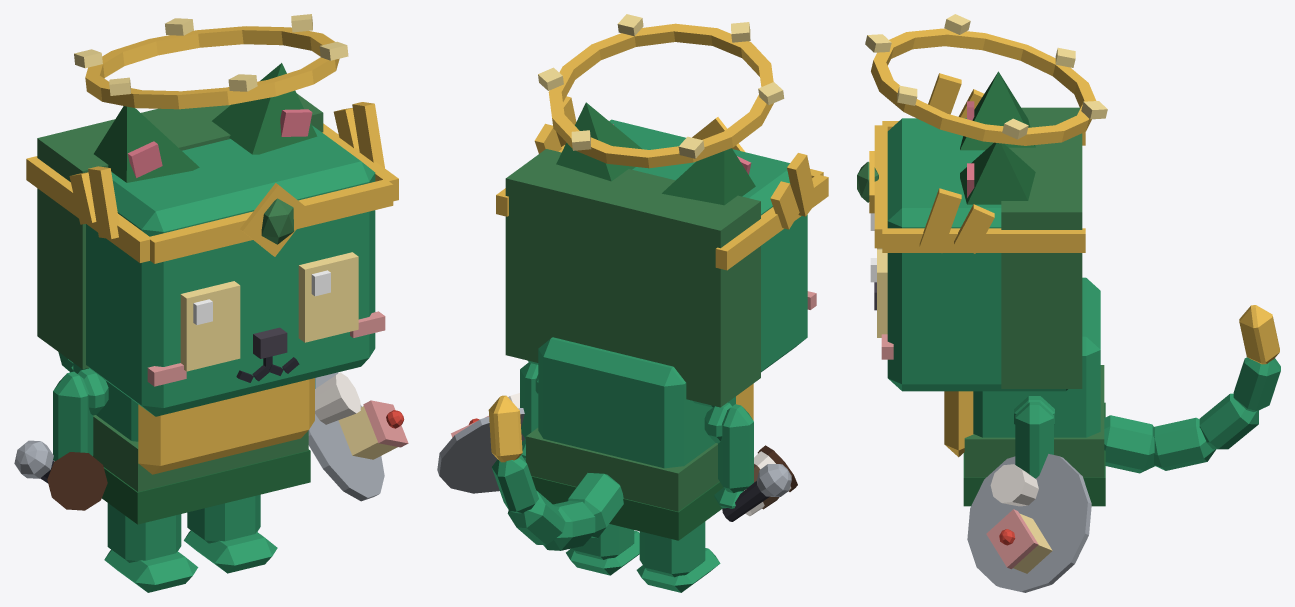
The model's file is CatCafe_Cat_JadeGuardian_Work.glb.
The picture shows the model from 3 angles, left to right: view 1: azimuth 30°, elevation 25°; view 2: azimuth 150°, elevation 25°; view 3: azimuth 270°, elevation 25°; orthographic projection. The views are drawn at different scales.
Parts seen in each view (by area): view 1: CatCafe_Cat_JadeGuardian_Work_Head, CatCafe_Cat_JadeGuardian_Work_Body, CatCafe_Cat_JadeGuardian_Work_Prop, CatCafe_Cat_JadeGuardian_Work_RuneRing, CatCafe_Cat_JadeGuardian_Work_Held_Waiter, CatCafe_Cat_JadeGuardian_Work_LegB2, CatCafe_Cat_JadeGuardian_Work_Eye1, CatCafe_Cat_JadeGuardian_Work_Eye2, CatCafe_Cat_JadeGuardian_Work_LegB1, CatCafe_Cat_JadeGuardian_Work_EarR, CatCafe_Cat_JadeGuardian_Work_EarL, CatCafe_Cat_JadeGuardian_Work_LegF2 (+2 smaller); view 2: CatCafe_Cat_JadeGuardian_Work_Head, CatCafe_Cat_JadeGuardian_Work_Body, CatCafe_Cat_JadeGuardian_Work_RuneRing, CatCafe_Cat_JadeGuardian_Work_Tail, CatCafe_Cat_JadeGuardian_Work_Prop, CatCafe_Cat_JadeGuardian_Work_LegB2, CatCafe_Cat_JadeGuardian_Work_Held_Waiter, CatCafe_Cat_JadeGuardian_Work_EarR, CatCafe_Cat_JadeGuardian_Work_LegF2, CatCafe_Cat_JadeGuardian_Work_EarL, CatCafe_Cat_JadeGuardian_Work_LegB1, CatCafe_Cat_JadeGuardian_Work_Held_Entertainer (+2 smaller); view 3: CatCafe_Cat_JadeGuardian_Work_Head, CatCafe_Cat_JadeGuardian_Work_Body, CatCafe_Cat_JadeGuardian_Work_Held_Waiter, CatCafe_Cat_JadeGuardian_Work_Tail, CatCafe_Cat_JadeGuardian_Work_RuneRing, CatCafe_Cat_JadeGuardian_Work_Prop, CatCafe_Cat_JadeGuardian_Work_EarL, CatCafe_Cat_JadeGuardian_Work_LegF1, CatCafe_Cat_JadeGuardian_Work_EarR, CatCafe_Cat_JadeGuardian_Work_Eye1.
Part boxes in pixels (x1,y1,x2,y2): CatCafe_Cat_JadeGuardian_Work_Head: [37, 93, 385, 416]; CatCafe_Cat_JadeGuardian_Work_Body: [73, 363, 314, 524]; CatCafe_Cat_JadeGuardian_Work_Prop: [26, 102, 398, 263]; CatCafe_Cat_JadeGuardian_Work_RuneRing: [74, 14, 348, 109]; CatCafe_Cat_JadeGuardian_Work_Held_Waiter: [308, 372, 408, 501]; CatCafe_Cat_JadeGuardian_Work_LegB2: [104, 503, 198, 592]; CatCafe_Cat_JadeGuardian_Work_Eye1: [298, 252, 358, 342]; CatCafe_Cat_JadeGuardian_Work_Eye2: [180, 281, 240, 371]; CatCafe_Cat_JadeGuardian_Work_LegB1: [184, 494, 277, 573]; CatCafe_Cat_JadeGuardian_Work_EarR: [94, 106, 199, 182]; CatCafe_Cat_JadeGuardian_Work_EarL: [212, 63, 317, 154]; CatCafe_Cat_JadeGuardian_Work_LegF2: [53, 371, 93, 460]; CatCafe_Cat_JadeGuardian_Work_Head: [505, 119, 816, 407]; CatCafe_Cat_JadeGuardian_Work_Body: [526, 337, 753, 540]; CatCafe_Cat_JadeGuardian_Work_RuneRing: [538, 14, 784, 168]; CatCafe_Cat_JadeGuardian_Work_Tail: [488, 395, 623, 550]; CatCafe_Cat_JadeGuardian_Work_Prop: [496, 96, 828, 270]; CatCafe_Cat_JadeGuardian_Work_LegB2: [636, 521, 720, 592]; CatCafe_Cat_JadeGuardian_Work_Held_Waiter: [437, 393, 524, 493]; CatCafe_Cat_JadeGuardian_Work_EarR: [662, 148, 755, 205]; CatCafe_Cat_JadeGuardian_Work_LegF2: [714, 404, 753, 508]; CatCafe_Cat_JadeGuardian_Work_EarL: [556, 102, 642, 181]; CatCafe_Cat_JadeGuardian_Work_LegB1: [566, 524, 639, 575]; CatCafe_Cat_JadeGuardian_Work_Held_Entertainer: [722, 464, 791, 521]; CatCafe_Cat_JadeGuardian_Work_Head: [874, 107, 1082, 391]; CatCafe_Cat_JadeGuardian_Work_Body: [944, 277, 1105, 506]; CatCafe_Cat_JadeGuardian_Work_Held_Waiter: [967, 454, 1091, 592]; CatCafe_Cat_JadeGuardian_Work_Tail: [1104, 305, 1280, 473]; CatCafe_Cat_JadeGuardian_Work_RuneRing: [865, 14, 1107, 145]; CatCafe_Cat_JadeGuardian_Work_Prop: [857, 73, 1085, 253]; CatCafe_Cat_JadeGuardian_Work_EarL: [960, 142, 1035, 204]; CatCafe_Cat_JadeGuardian_Work_LegF1: [1015, 402, 1053, 478]; CatCafe_Cat_JadeGuardian_Work_EarR: [960, 71, 1035, 150]; CatCafe_Cat_JadeGuardian_Work_Eye1: [870, 249, 887, 337].
Bounding box in the file's own units: 1.77 × 2.49 × 1.92.
1 material, 1 textured.
